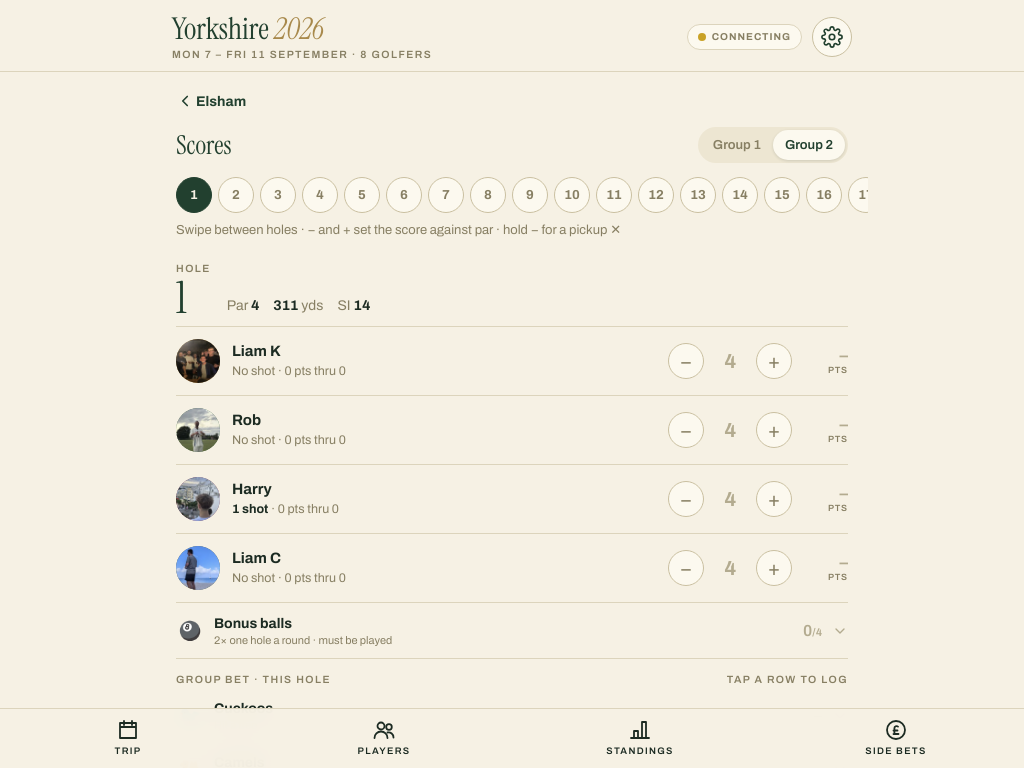
Test case: app flow › other groups' cards are read-only; watchers can't score at all
The image size is (1024, 768).
flip to group 1: no steppers, just the read-only strokes
Click the button "Group 1" at (737, 145), box top-left (701, 130), bottom-right (773, 160)
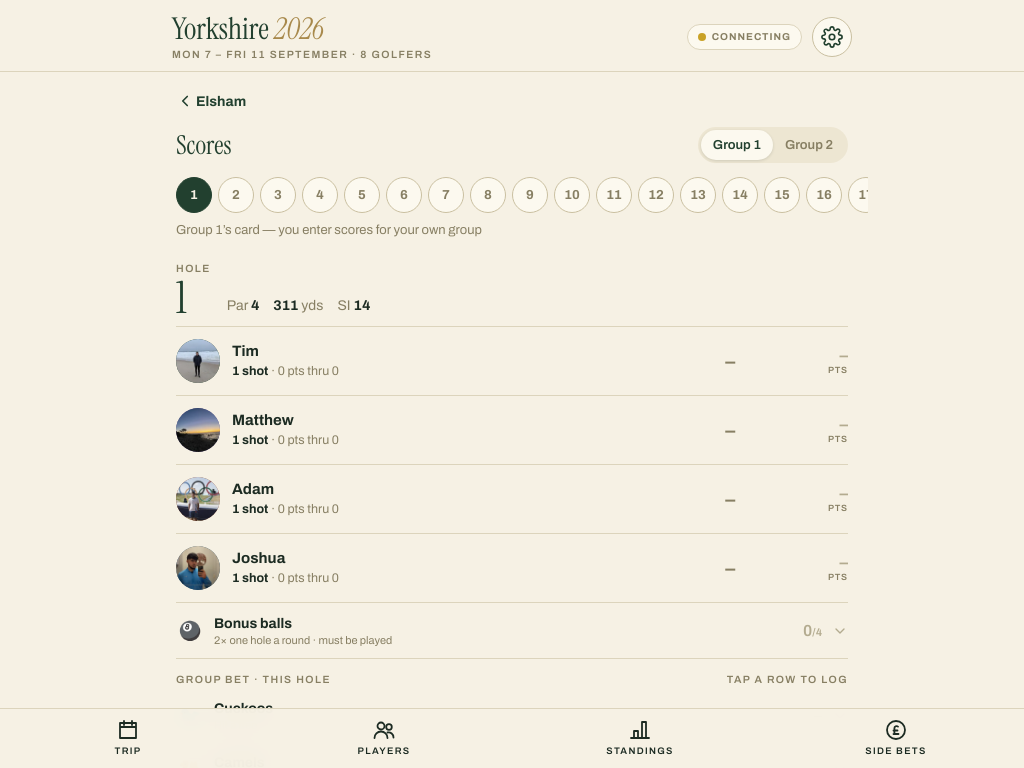
Check: the 1st text with class "stepper" is shown, box top-left (725, 350), bottom-right (735, 372)
